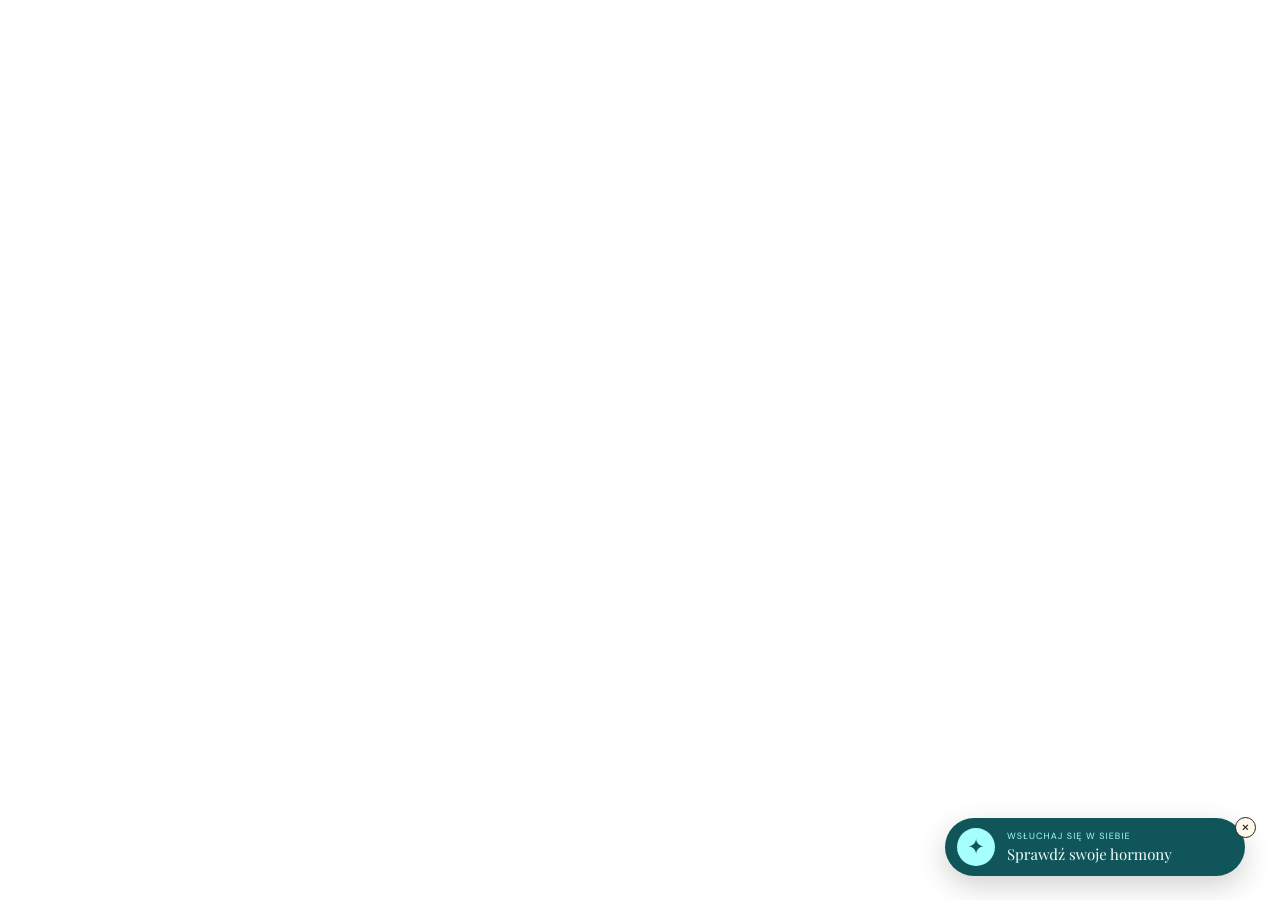
Scenario: HormoneTeaser › shows the description for ŁOKIEĆKA
Click the button "Sprawdź swoje hormony" at (1095, 847), box [945,818,1245,876]
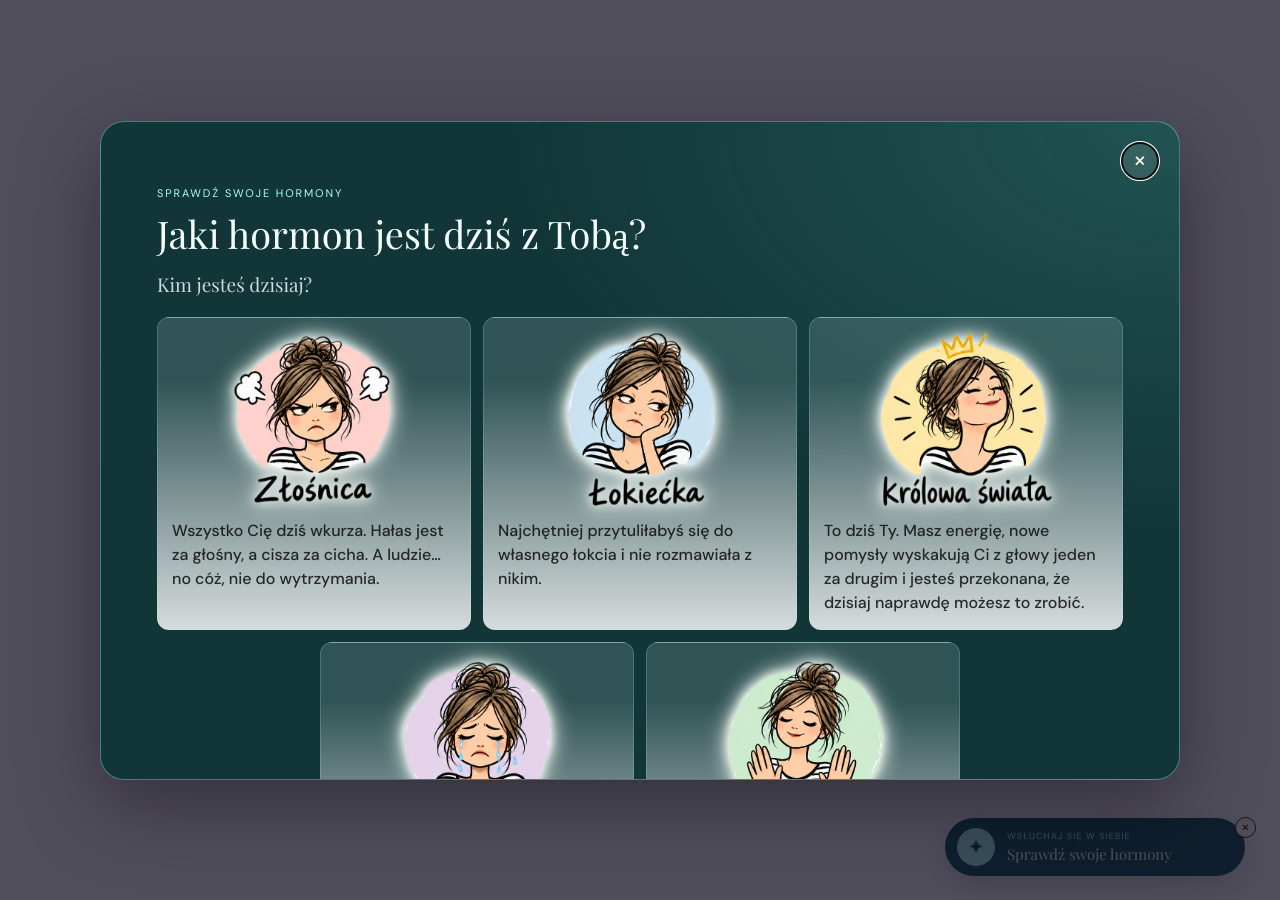
Click the button named "ŁOKIEĆKA" at (640, 473), box [483,316,797,630]
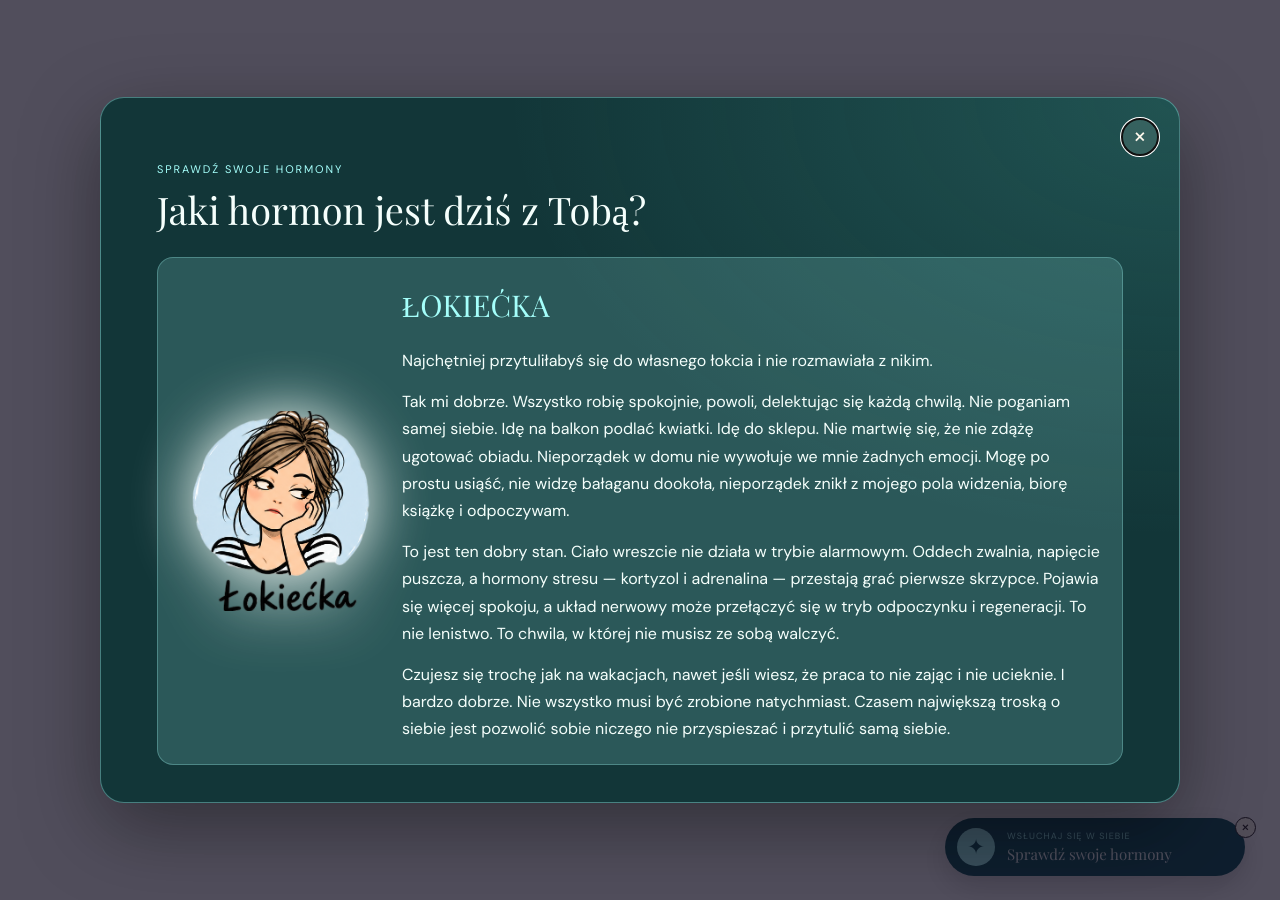
Check: the heading "ŁOKIEĆKA" is shown, box [402,285,550,325]
Check: the text "Kim jesteś dzisiaj?" is gone
Check: the text "Tak mi dobrze. Wszystko robię spokojnie, powoli, delektując się każdą chwilą. Nie poganiam samej siebie. Idę na balkon p" is shown, box [402,391,1070,521]
